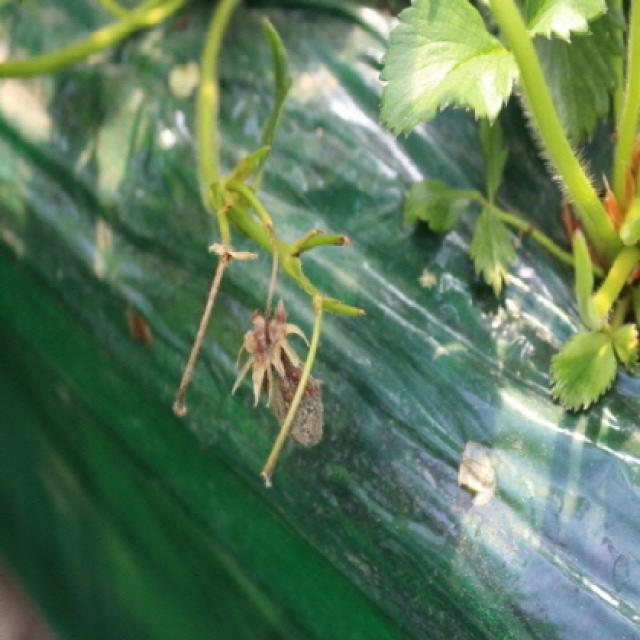Gray Mold: (232, 294, 326, 449)
